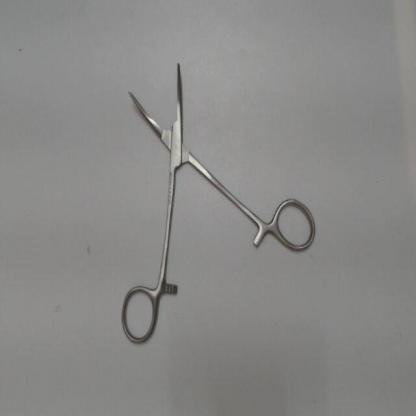Crile Artery Forceps: (116, 55, 321, 349)
